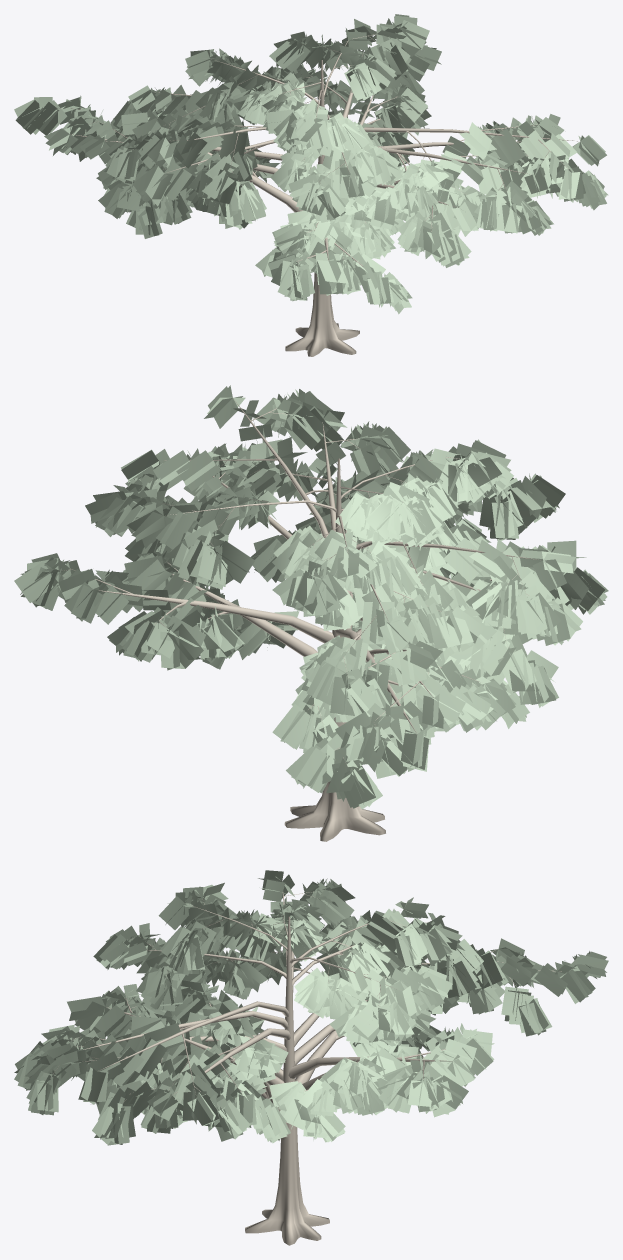
Rendered from tree-8.gltf.
3 views of the same model, one above another, from view 1: azimuth 30°, elevation 25°; view 2: azimuth 150°, elevation 25°; view 3: azimuth 270°, elevation 25° (orthographic). The views are drawn at different scales.
Parts seen in each view (by area): view 1: TerraWeave Arbor; view 2: TerraWeave Arbor; view 3: TerraWeave Arbor.
Boxes of the visible parts, x1=… form: TerraWeave Arbor: x1=14, y1=14, x2=608, y2=356; TerraWeave Arbor: x1=14, y1=385, x2=608, y2=841; TerraWeave Arbor: x1=14, y1=870, x2=608, y2=1245.
Bounding box in the file's own units: 18.21 × 12.11 × 21.13.
